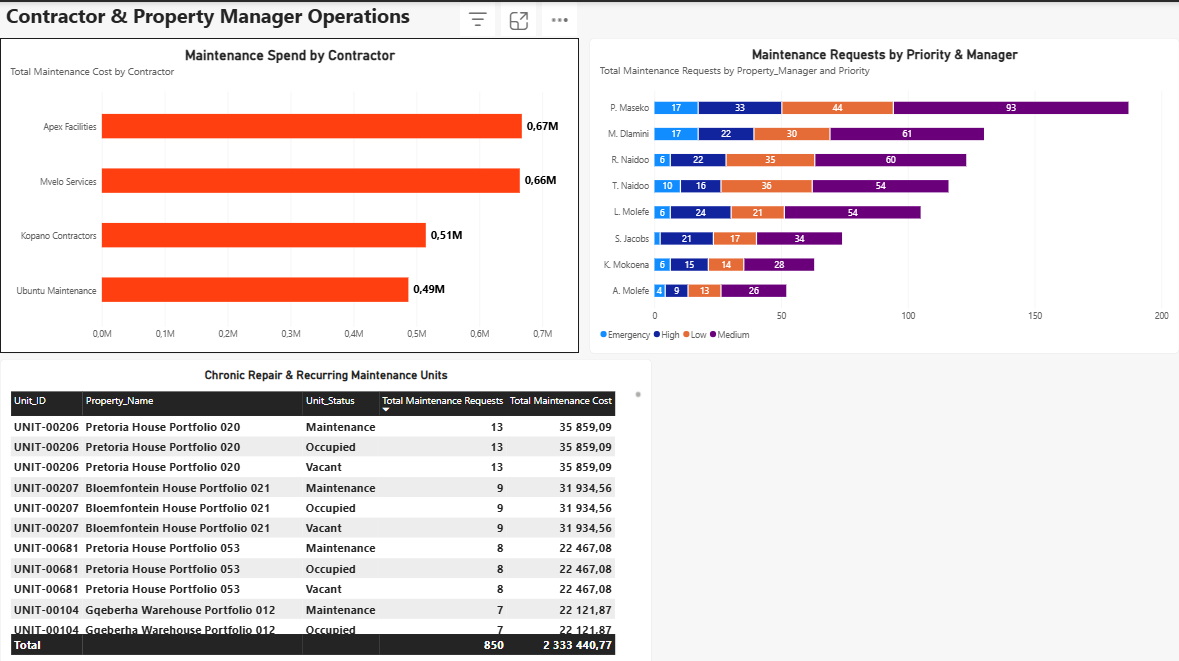

The page's visual inventory and layout, read from the dashboard file:
{"tool":"powerbi","page":{"name":"Manager & Contractor Performance","canvas":[1920,1080],"ordinal":2},"visuals":[{"type":"textbox","box":[10,0,686.5,57.6],"z":0},{"type":"clusteredBarChart","title":"Maintenance Spend by Contractor","fields":{"Category":["Maintenance.Contractor"],"Y":["_Key Measures.Total Maintenance Cost"]},"box":[0,57.6,942.1,513.6],"z":1000},{"type":"barChart","title":"Maintenance Requests by Priority & Manager","fields":{"Category":["Properties.Property_Manager"],"Y":["_Key Measures.Total Maintenance Requests"],"Series":["Maintenance.Priority"]},"box":[959.6,57.6,959.6,513.6],"z":2000},{"type":"tableEx","title":"Chronic Repair & Recurring Maintenance Units","fields":{"Values":["Maintenance.Unit_ID","Properties.Property_Name","Units.Unit_Status","_Key Measures.Total Maintenance Requests","_Key Measures.Total Maintenance Cost"]},"box":[0,581.3,1059.8,498.6],"z":3000}]}

Visuals, with their boxes on the page's 1920x1080 design canvas (x1, y1, x2, y2). These are canvas units, not pixel positions in the 1179x661 screenshot, which may show the page scaled, cropped or inside an application window:
textbox: 10, 0, 696, 58
"Maintenance Spend by Contractor" clusteredBarChart: 0, 58, 942, 571
"Maintenance Requests by Priority & Manager" barChart: 960, 58, 1919, 571
"Chronic Repair & Recurring Maintenance Units" tableEx: 0, 581, 1060, 1080
